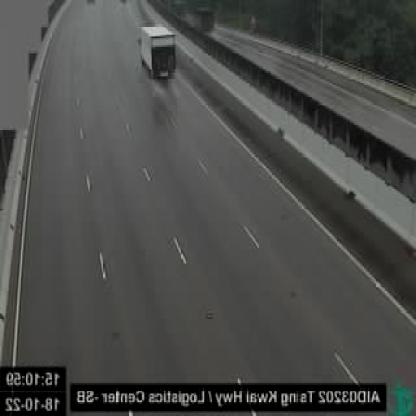Truck: (136, 23, 178, 82)
